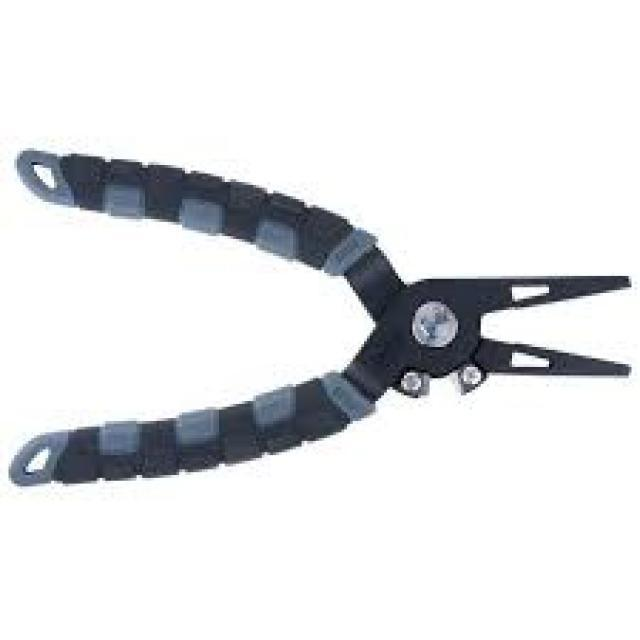pliers: (0, 136, 635, 492)
